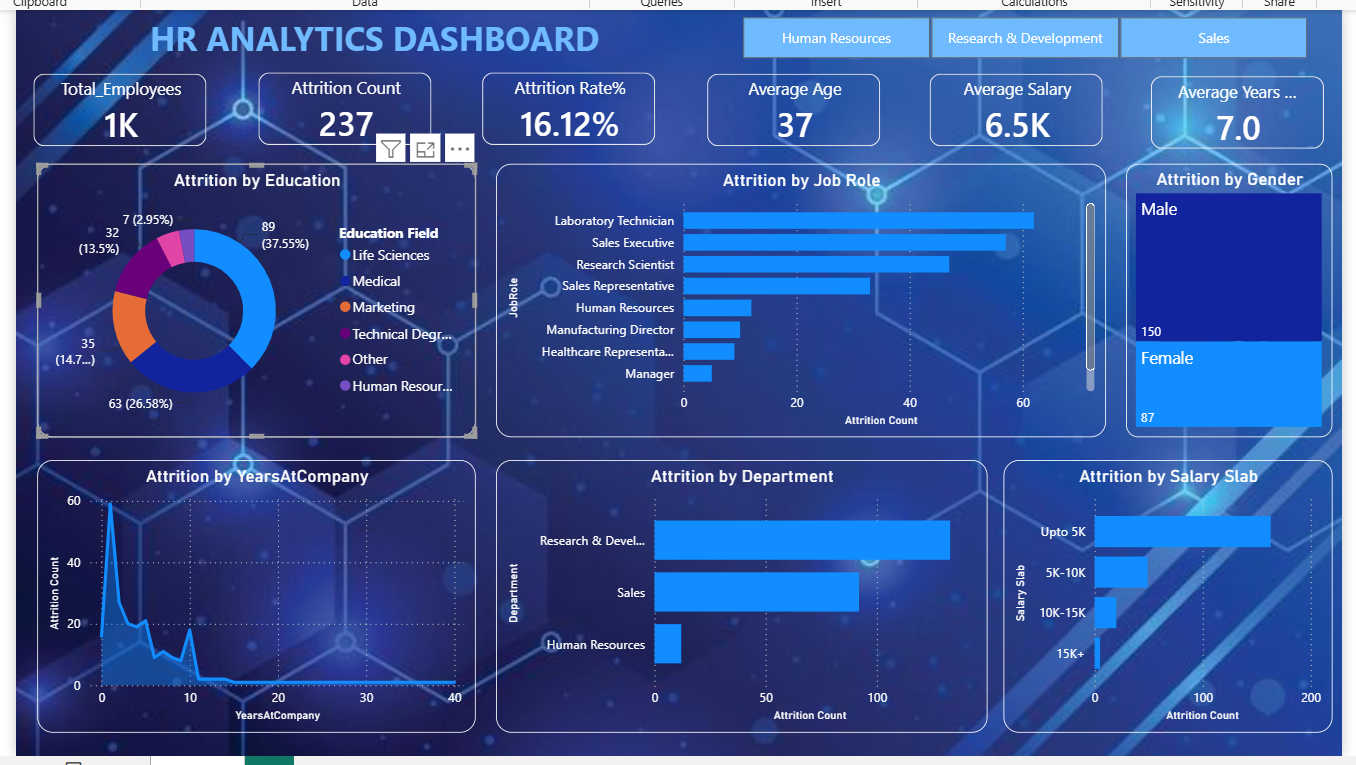

The page's visual inventory and layout, read from the dashboard file:
{"tool":"powerbi","page":{"name":"Page 1","canvas":[1280,720],"ordinal":0},"visuals":[{"type":"cardVisual","fields":{"Data":["HR-Employee-Attrition.Total_Employees"]},"box":[0,44.6,201.5,105],"z":0},{"type":"textbox","box":[0,0,692.5,53.1],"z":1000},{"type":"cardVisual","fields":{"Data":["HR-Employee-Attrition.Attrition Count"]},"box":[217.2,43.4,201.5,105],"z":2000},{"type":"cardVisual","fields":{"Data":["HR-Employee-Attrition.Attrition Rate%"]},"box":[433.1,43.4,201.5,105],"z":3000},{"type":"cardVisual","fields":{"Data":["HR-Employee-Attrition.Average Age"]},"box":[650.3,44.6,201.5,105],"z":4000},{"type":"cardVisual","fields":{"Data":["HR-Employee-Attrition.Average Salary"]},"box":[865,44.6,201.5,105],"z":5000},{"type":"cardVisual","fields":{"Data":["HR-Employee-Attrition.Average Years at Company"]},"box":[1078.5,47.1,201.5,105],"z":6000},{"type":"slicer","fields":{"Values":["HR-Employee-Attrition.Department"]},"box":[675.6,0,594.8,53.1],"z":7000},{"type":"treemap","title":"Attrition by Gender","fields":{"Details":["HR-Employee-Attrition.Gender"],"Values":["HR-Employee-Attrition.Attrition Count"]},"box":[1071.3,148.4,199.1,264.2],"z":8000},{"type":"donutChart","title":"Attrition by Education","fields":{"Y":["HR-Employee-Attrition.Attrition Count"],"Category":["HR-Employee-Attrition.EducationField"]},"box":[20.5,148.4,423.5,264.2],"z":9000},{"type":"areaChart","title":"Attrition by YearsAtCompany","fields":{"Category":["HR-Employee-Attrition.YearsAtCompany"],"Y":["HR-Employee-Attrition.Attrition Count"]},"box":[20.5,434.3,423.5,263],"z":10000},{"type":"clusteredBarChart","title":"Attrition by Department","fields":{"Category":["HR-Employee-Attrition.Department"],"Y":["HR-Employee-Attrition.Attrition Count"]},"box":[463.3,434.3,474.1,263],"z":11000},{"type":"clusteredBarChart","title":"Attrition by Job Role","fields":{"Category":["HR-Employee-Attrition.JobRole"],"Y":["HR-Employee-Attrition.Attrition Count"]},"box":[463.3,148.4,588.7,264.2],"z":12000},{"type":"clusteredBarChart","title":"Attrition  by Salary Slab","fields":{"Category":["HR-Employee-Attrition.Salary Slab"],"Y":["HR-Employee-Attrition.Attrition Count"]},"box":[953.1,434.3,317.3,263],"z":13000}]}

Visuals, with their boxes in screenshot pixels (x1, y1, x2, y2):
cardVisual - HR-Employee-Attrition.Total_Employees: Rect(11, 50, 221, 160)
textbox: Rect(11, 4, 734, 59)
cardVisual - HR-Employee-Attrition.Attrition Count: Rect(238, 49, 448, 159)
cardVisual - HR-Employee-Attrition.Attrition Rate%: Rect(463, 49, 674, 159)
cardVisual - HR-Employee-Attrition.Average Age: Rect(690, 50, 900, 160)
cardVisual - HR-Employee-Attrition.Average Salary: Rect(914, 50, 1125, 160)
cardVisual - HR-Employee-Attrition.Average Years at Company: Rect(1137, 53, 1348, 162)
slicer - HR-Employee-Attrition.Department: Rect(716, 4, 1338, 59)
"Attrition by Gender" treemap: Rect(1130, 159, 1338, 435)
"Attrition by Education" donutChart: Rect(32, 159, 474, 435)
"Attrition by YearsAtCompany" areaChart: Rect(32, 457, 474, 732)
"Attrition by Department" clusteredBarChart: Rect(495, 457, 990, 732)
"Attrition by Job Role" clusteredBarChart: Rect(495, 159, 1110, 435)
"Attrition  by Salary Slab" clusteredBarChart: Rect(1006, 457, 1338, 732)
